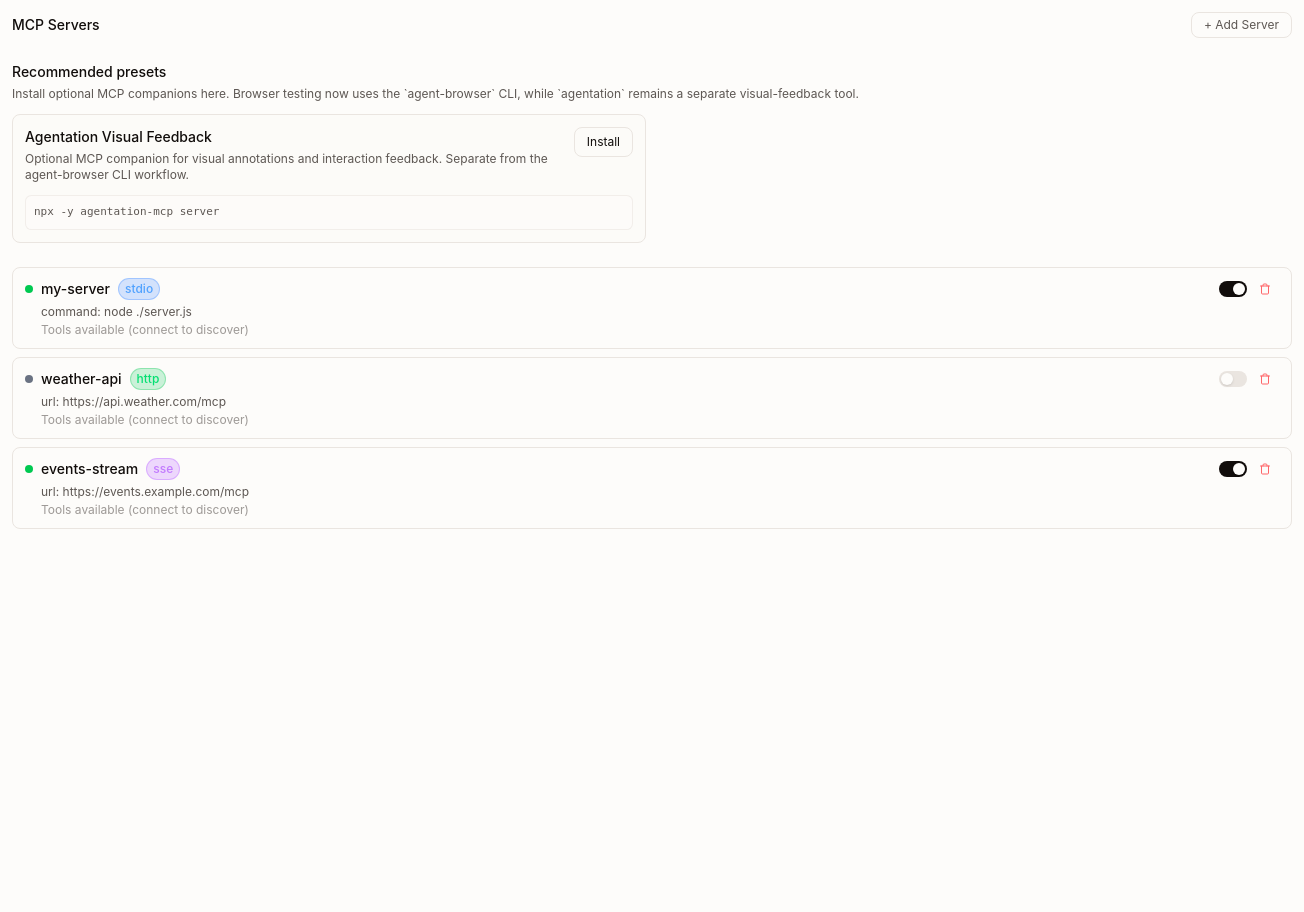
Test: McpPanel › edit cancel closes form
This screenshot has width=1304, height=912.
Expected: the element with test id "mcp-panel" is shown, [12,12,1292,528]
Click the element with test id "mcp-server-my-server": (652, 308) [12,266,1292,348]
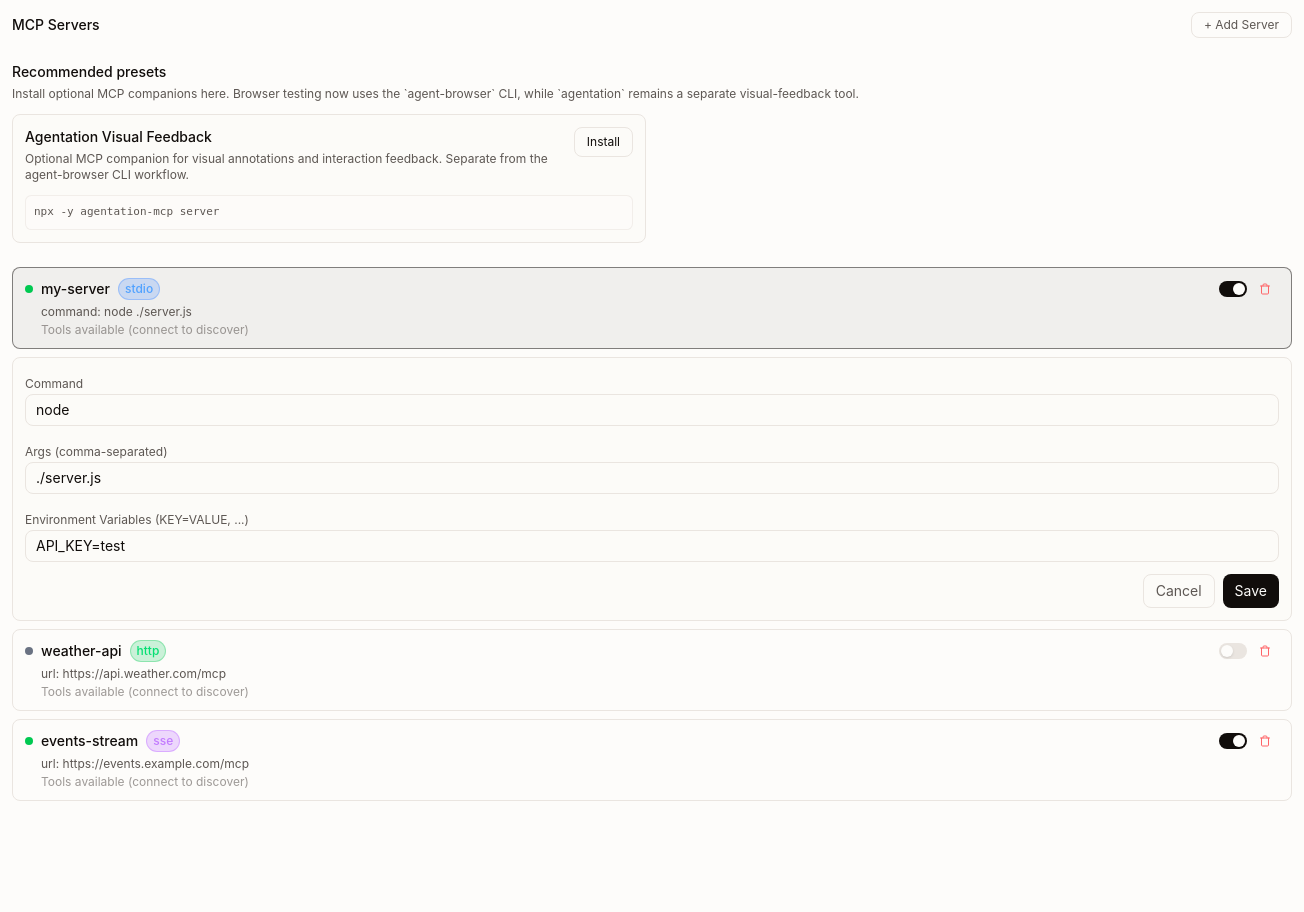
Result: the element with test id "mcp-edit-form-my-server" is shown at [12,356,1292,620]
Click the button with test id "mcp-edit-cancel-btn": (1179, 590) [1143,574,1215,608]
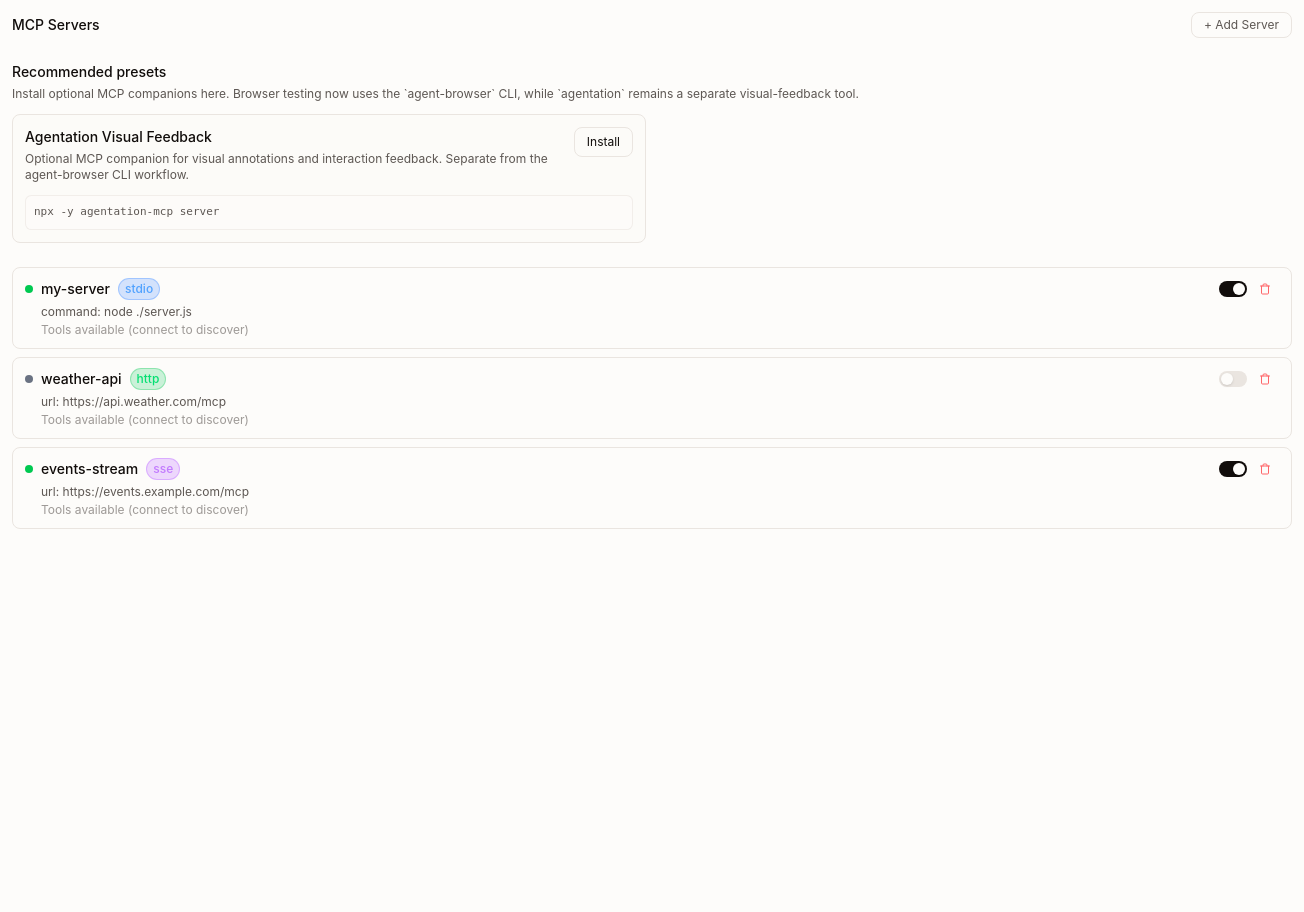
Result: the element with test id "mcp-edit-form-my-server" is gone
